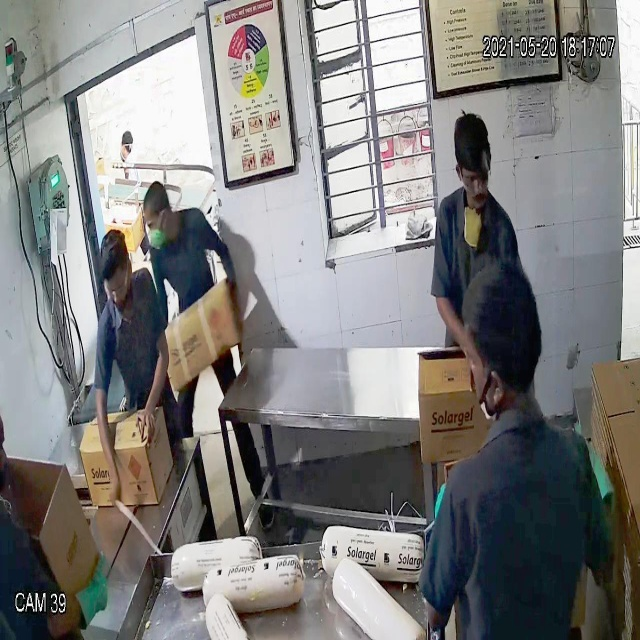Gafas: (457, 164, 499, 197)
